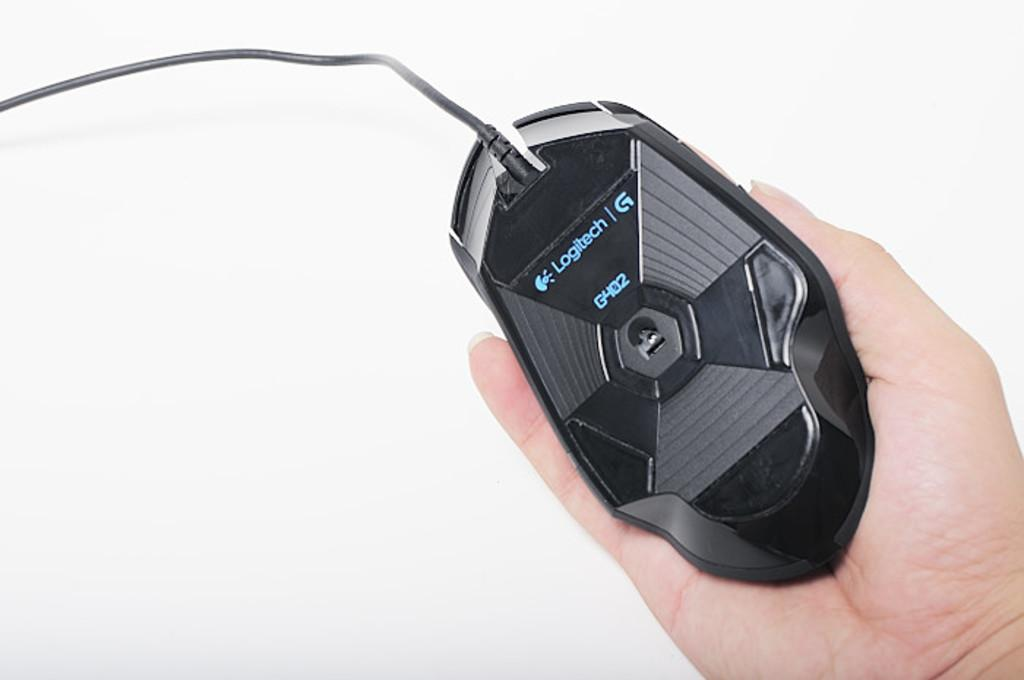Computer-mouse: (440, 92, 866, 570)
